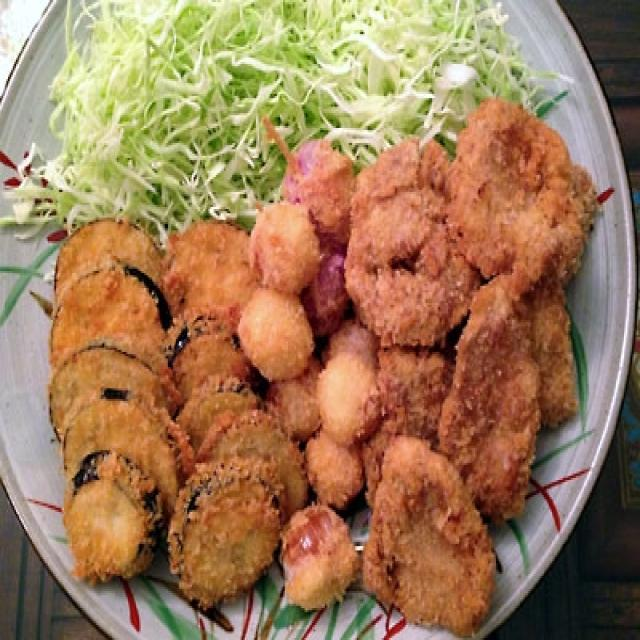牛肉菜式: (21, 28, 613, 608)
